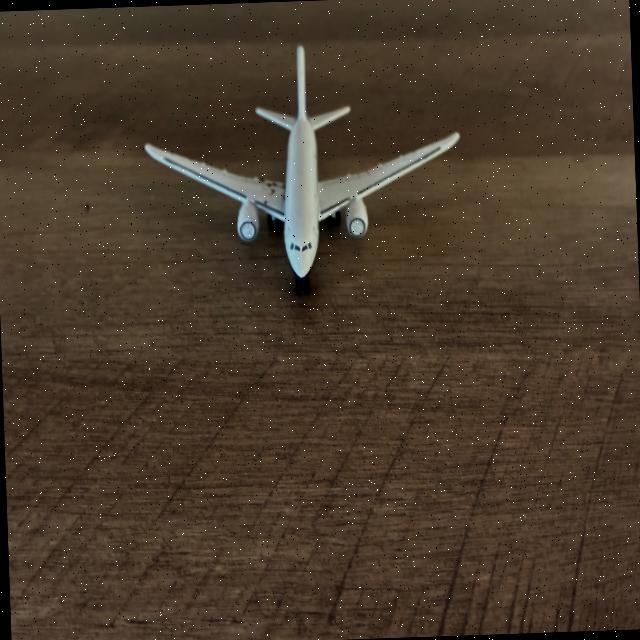air-plane: (145, 45, 459, 292)
